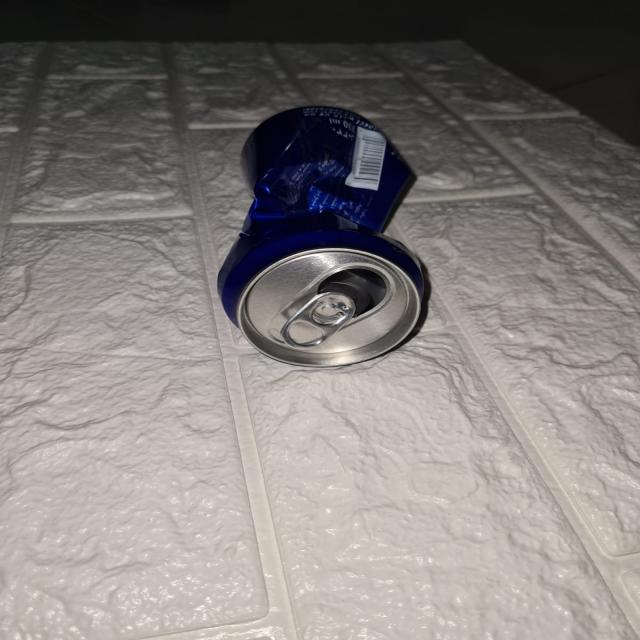non-organic waste: (214, 106, 437, 367)
